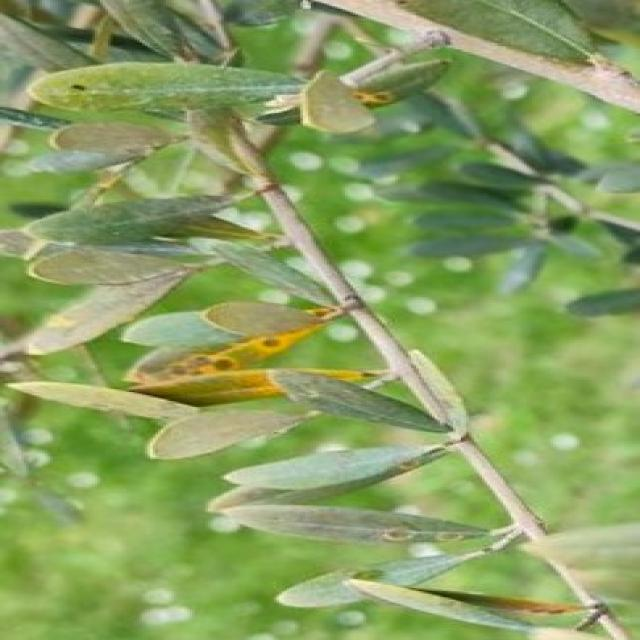Peacock Eye: (120, 326, 327, 382)
